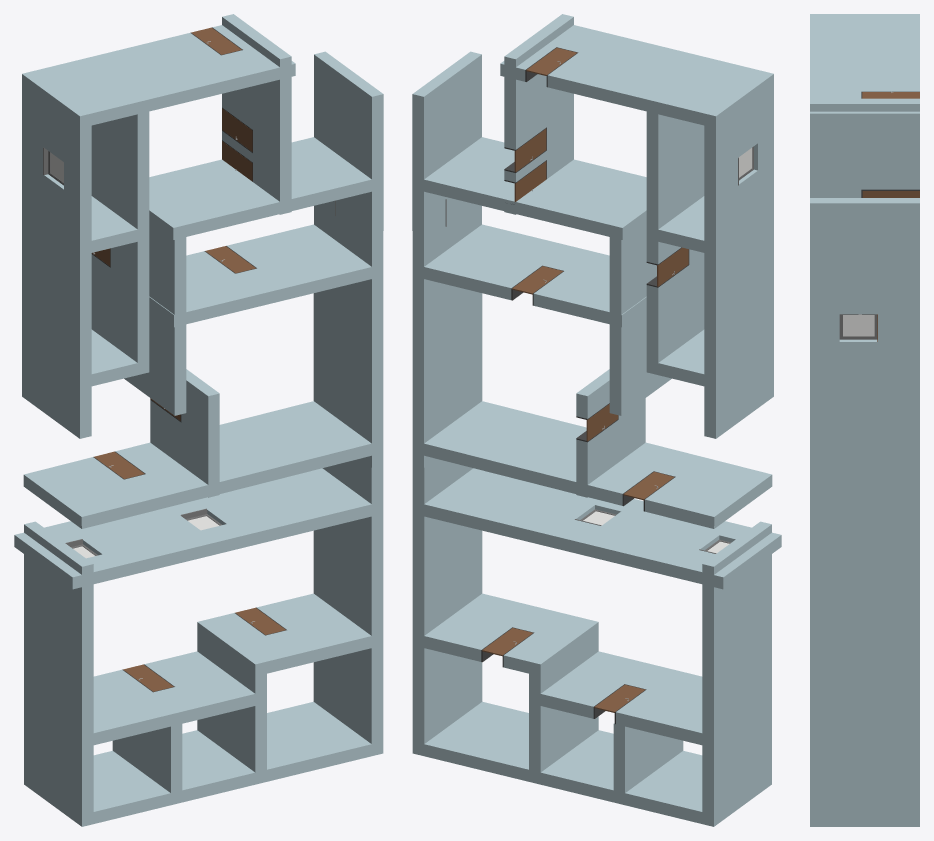
File: 24_Facility_04_F1_s0p01m.obj
3 renders of one model, left to right at view 1: azimuth 30°, elevation 25°; view 2: azimuth 150°, elevation 25°; view 3: azimuth 270°, elevation 25°, orthographic. The views are drawn at different scales.
Visible parts, largest first — view 1: product-84178296-494e-49b3-9cd7-f1c14db48fce-body, product-84178296-494e-49b3-9cd7-f1c14db4907e-body, product-84178296-494e-49b3-9cd7-f1c14db49040-body, product-84178296-494e-49b3-9cd7-f1c14db49039-body, product-84178296-494e-49b3-9cd7-f1c14db48f80-body, product-84178296-494e-49b3-9cd7-f1c14db48fb5-body, product-84178296-494e-49b3-9cd7-f1c14db49053-body, product-84178296-494e-49b3-9cd7-f1c14db49064-body, product-84178296-494e-49b3-9cd7-f1c14db48fa4-body, product-84178296-494e-49b3-9cd7-f1c14db49028-body, product-84178296-494e-49b3-9cd7-f1c14db49073-body, product-84178296-494e-49b3-9cd7-f1c14db490fc-body (+13 smaller); view 2: product-84178296-494e-49b3-9cd7-f1c14db48fce-body, product-84178296-494e-49b3-9cd7-f1c14db4907e-body, product-84178296-494e-49b3-9cd7-f1c14db49040-body, product-84178296-494e-49b3-9cd7-f1c14db49039-body, product-84178296-494e-49b3-9cd7-f1c14db48f80-body, product-84178296-494e-49b3-9cd7-f1c14db48fb5-body, product-84178296-494e-49b3-9cd7-f1c14db49053-body, product-84178296-494e-49b3-9cd7-f1c14db48fa4-body, product-84178296-494e-49b3-9cd7-f1c14db49064-body, product-84178296-494e-49b3-9cd7-f1c14db49028-body, product-84178296-494e-49b3-9cd7-f1c14db49073-body, product-84178296-494e-49b3-9cd7-f1c14db4900d-body (+16 smaller); view 3: product-84178296-494e-49b3-9cd7-f1c14db48fce-body, product-84178296-494e-49b3-9cd7-f1c14db49053-body, product-84178296-494e-49b3-9cd7-f1c14db490fc-body, product-84178296-494e-49b3-9cd7-f1c14db49135-body, product-84178296-494e-49b3-9cd7-f1c14db4907e-body, product-84178296-494e-49b3-9cd7-f1c14db49158-body, product-84178296-494e-49b3-9cd7-f1c14db490a1-body.
Boxes of the visible parts, x1=… form: product-84178296-494e-49b3-9cd7-f1c14db48fce-body: x1=313, y1=51, x2=383, y2=755; product-84178296-494e-49b3-9cd7-f1c14db4907e-body: x1=22, y1=71, x2=91, y2=438; product-84178296-494e-49b3-9cd7-f1c14db49040-body: x1=23, y1=401, x2=371, y2=528; product-84178296-494e-49b3-9cd7-f1c14db49039-body: x1=14, y1=468, x2=371, y2=589; product-84178296-494e-49b3-9cd7-f1c14db48f80-body: x1=24, y1=521, x2=93, y2=814; product-84178296-494e-49b3-9cd7-f1c14db48fb5-body: x1=24, y1=701, x2=371, y2=826; product-84178296-494e-49b3-9cd7-f1c14db49053-body: x1=34, y1=25, x2=295, y2=125; product-84178296-494e-49b3-9cd7-f1c14db49064-body: x1=91, y1=111, x2=149, y2=374; product-84178296-494e-49b3-9cd7-f1c14db48fa4-body: x1=149, y1=137, x2=371, y2=239; product-84178296-494e-49b3-9cd7-f1c14db49028-body: x1=149, y1=224, x2=371, y2=327; product-84178296-494e-49b3-9cd7-f1c14db49073-body: x1=93, y1=651, x2=255, y2=745; product-84178296-494e-49b3-9cd7-f1c14db490fc-body: x1=222, y1=14, x2=291, y2=214; product-84178296-494e-49b3-9cd7-f1c14db48fce-body: x1=412, y1=51, x2=482, y2=755; product-84178296-494e-49b3-9cd7-f1c14db4907e-body: x1=704, y1=71, x2=773, y2=438; product-84178296-494e-49b3-9cd7-f1c14db49040-body: x1=424, y1=401, x2=772, y2=528; product-84178296-494e-49b3-9cd7-f1c14db49039-body: x1=424, y1=468, x2=781, y2=589; product-84178296-494e-49b3-9cd7-f1c14db48f80-body: x1=702, y1=521, x2=771, y2=814; product-84178296-494e-49b3-9cd7-f1c14db48fb5-body: x1=424, y1=701, x2=771, y2=826; product-84178296-494e-49b3-9cd7-f1c14db49053-body: x1=500, y1=25, x2=761, y2=125; product-84178296-494e-49b3-9cd7-f1c14db48fa4-body: x1=424, y1=137, x2=646, y2=239; product-84178296-494e-49b3-9cd7-f1c14db49064-body: x1=646, y1=111, x2=704, y2=374; product-84178296-494e-49b3-9cd7-f1c14db49028-body: x1=424, y1=224, x2=646, y2=327; product-84178296-494e-49b3-9cd7-f1c14db49073-body: x1=540, y1=651, x2=702, y2=745; product-84178296-494e-49b3-9cd7-f1c14db4900d-body: x1=609, y1=222, x2=671, y2=415; product-84178296-494e-49b3-9cd7-f1c14db48fce-body: x1=810, y1=198, x2=919, y2=826; product-84178296-494e-49b3-9cd7-f1c14db49053-body: x1=810, y1=19, x2=919, y2=124; product-84178296-494e-49b3-9cd7-f1c14db490fc-body: x1=810, y1=98, x2=919, y2=197; product-84178296-494e-49b3-9cd7-f1c14db49135-body: x1=839, y1=314, x2=877, y2=341; product-84178296-494e-49b3-9cd7-f1c14db4907e-body: x1=810, y1=14, x2=919, y2=19; product-84178296-494e-49b3-9cd7-f1c14db49158-body: x1=861, y1=189, x2=919, y2=197; product-84178296-494e-49b3-9cd7-f1c14db490a1-body: x1=861, y1=91, x2=919, y2=98.
Size of the model in its own units: 12.38 by 27.33 by 4.
